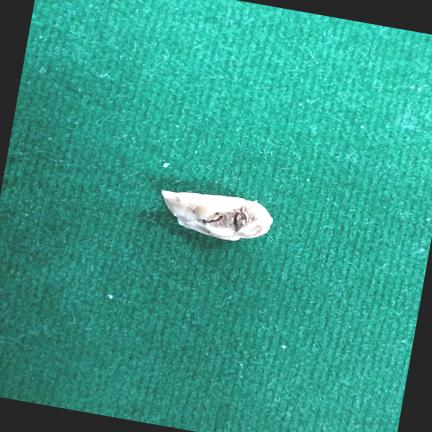shell: (162, 191, 272, 241)
